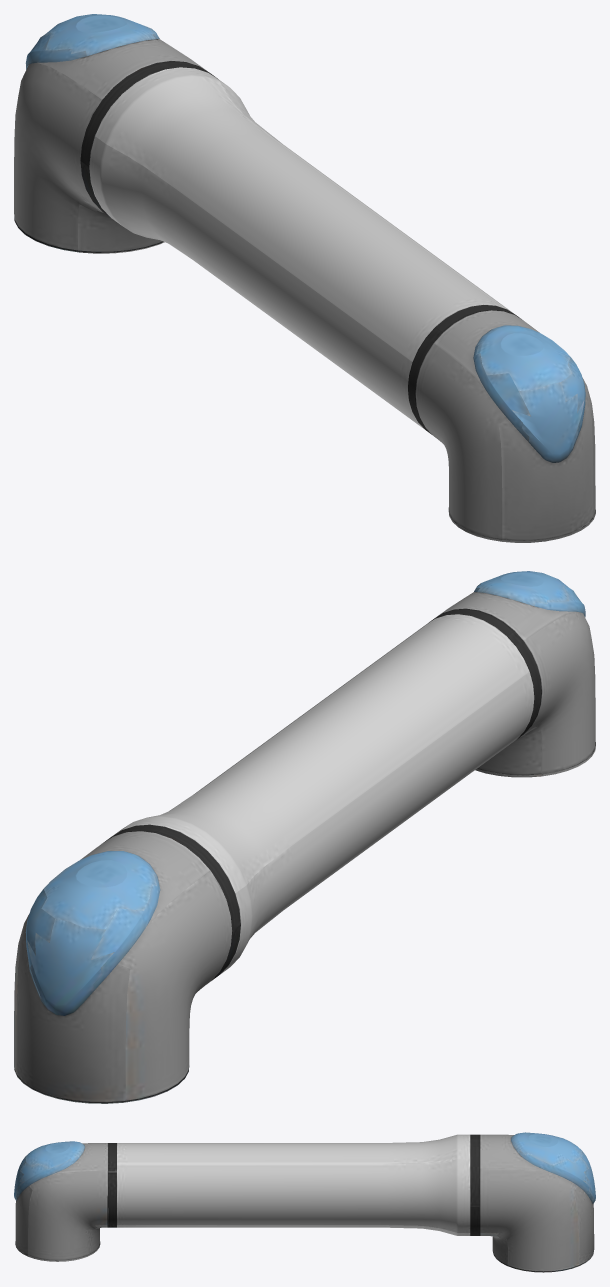
File: upper_arm_link.glb
The picture shows the model from 3 angles, top to bottom: view 1: azimuth 30°, elevation 25°; view 2: azimuth 150°, elevation 25°; view 3: azimuth 270°, elevation 25°; orthographic projection. The views are drawn at different scales.
Visible parts, largest first — view 1: shoulder-mesh_002, shoulder-mesh_003, shoulder-mesh_004, shoulder-mesh_001; view 2: shoulder-mesh_002, shoulder-mesh_003, shoulder-mesh_004, shoulder-mesh_001; view 3: shoulder-mesh_002, shoulder-mesh_003, shoulder-mesh_004, shoulder-mesh_001.
Part boxes in pixels (x1,y1,x2,y2): shoulder-mesh_002: [89, 67, 515, 429]; shoulder-mesh_003: [14, 39, 595, 542]; shoulder-mesh_004: [25, 14, 585, 462]; shoulder-mesh_001: [14, 61, 520, 434]; shoulder-mesh_002: [113, 614, 534, 974]; shoulder-mesh_003: [14, 592, 595, 1103]; shoulder-mesh_004: [25, 571, 585, 1015]; shoulder-mesh_001: [14, 608, 541, 1103]; shoulder-mesh_002: [117, 1134, 470, 1235]; shoulder-mesh_003: [15, 1134, 594, 1272]; shoulder-mesh_004: [14, 1132, 595, 1203]; shoulder-mesh_001: [108, 1134, 593, 1271].
Size of the model in its own units: 0.1803 by 0.223 by 1.03.
Materials: 1 (1 with a texture image).
